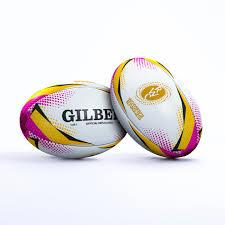ballon_rugby: (111, 56, 203, 159), (19, 80, 129, 161)
